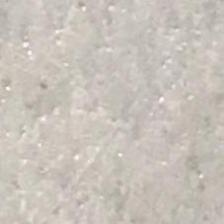Non_Crack: (26, 46, 182, 194)
